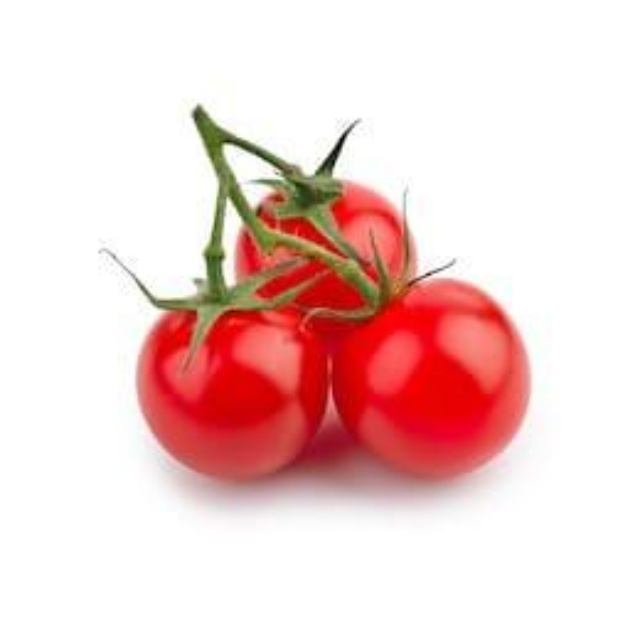tomato: (135, 283, 326, 477), (347, 283, 537, 477), (218, 160, 423, 335)
